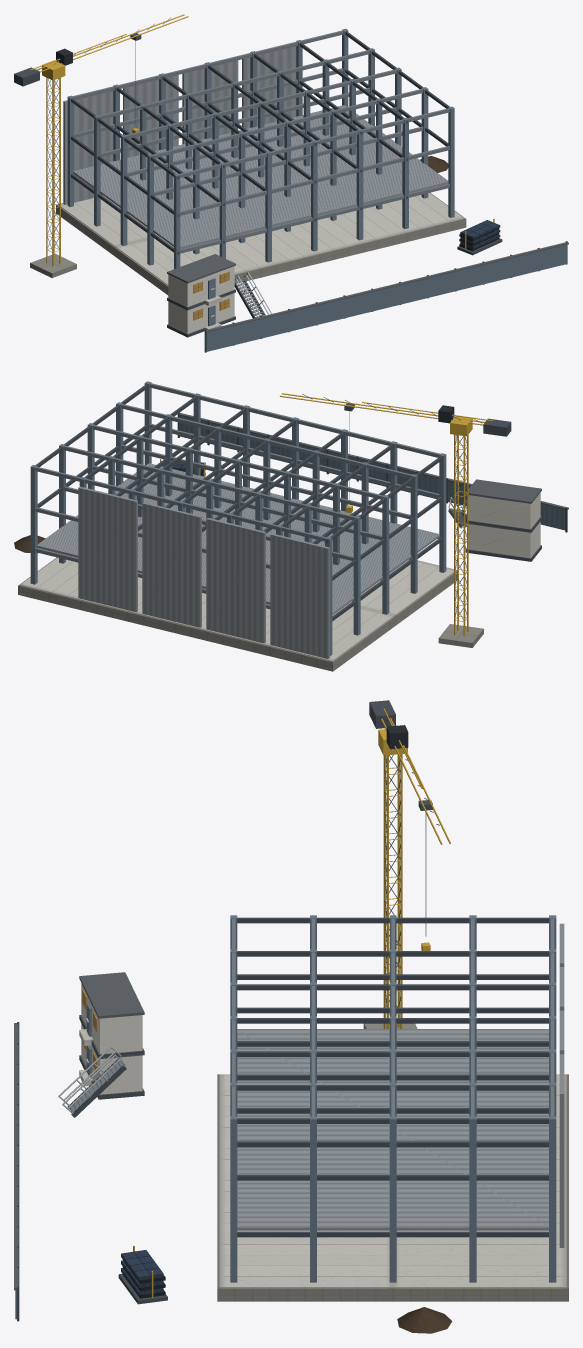
The model's file is el-3-construction.glb.
The picture shows the model from 3 angles, top to bottom: view 1: azimuth 30°, elevation 25°; view 2: azimuth 150°, elevation 25°; view 3: azimuth 270°, elevation 25°; orthographic projection. The views are drawn at different scales.
Bounding box in the file's own units: 49.28 × 22.75 × 35.52.
Materials: 22 (13 with a texture image).
